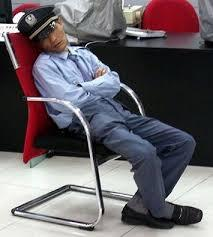sleep: (9, 2, 181, 200)
